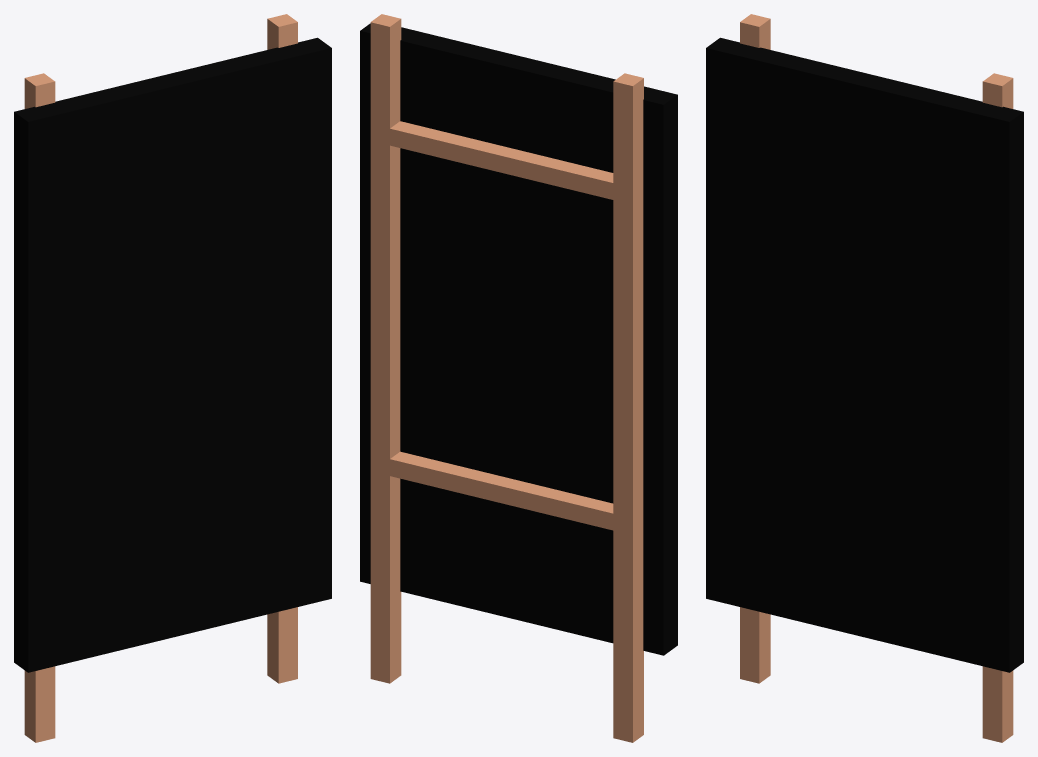
Rendered from Cartel01.fbx.
3 renders of one model, left to right at view 1: azimuth 30°, elevation 25°; view 2: azimuth 150°, elevation 25°; view 3: azimuth 330°, elevation 25°, orthographic.
Parts seen in each view (by area): view 1: Cartel01; view 2: Cartel01; view 3: Cartel01.
Boxes of the visible parts, box(x1,y1,x2,y2) form: Cartel01: box(14, 14, 331, 742); Cartel01: box(360, 14, 677, 742); Cartel01: box(706, 14, 1023, 742).
Size of the model in its own units: 75 by 155 by 10.4.
